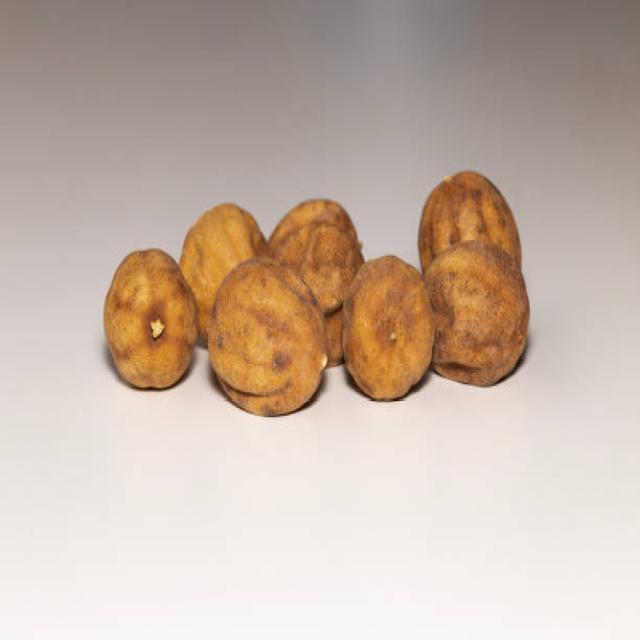overripe: (206, 251, 331, 420), (421, 237, 532, 390), (101, 240, 200, 396), (339, 249, 436, 403), (417, 167, 521, 251)
